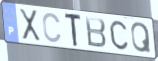B: (84, 15, 108, 50)
C: (42, 12, 63, 45), (108, 20, 129, 52)
Q: (130, 21, 153, 54)
T: (64, 13, 82, 48)
X: (17, 8, 42, 43)
